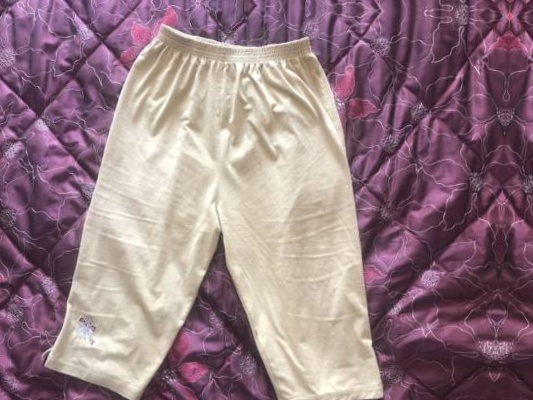Pants: (31, 28, 402, 400)
